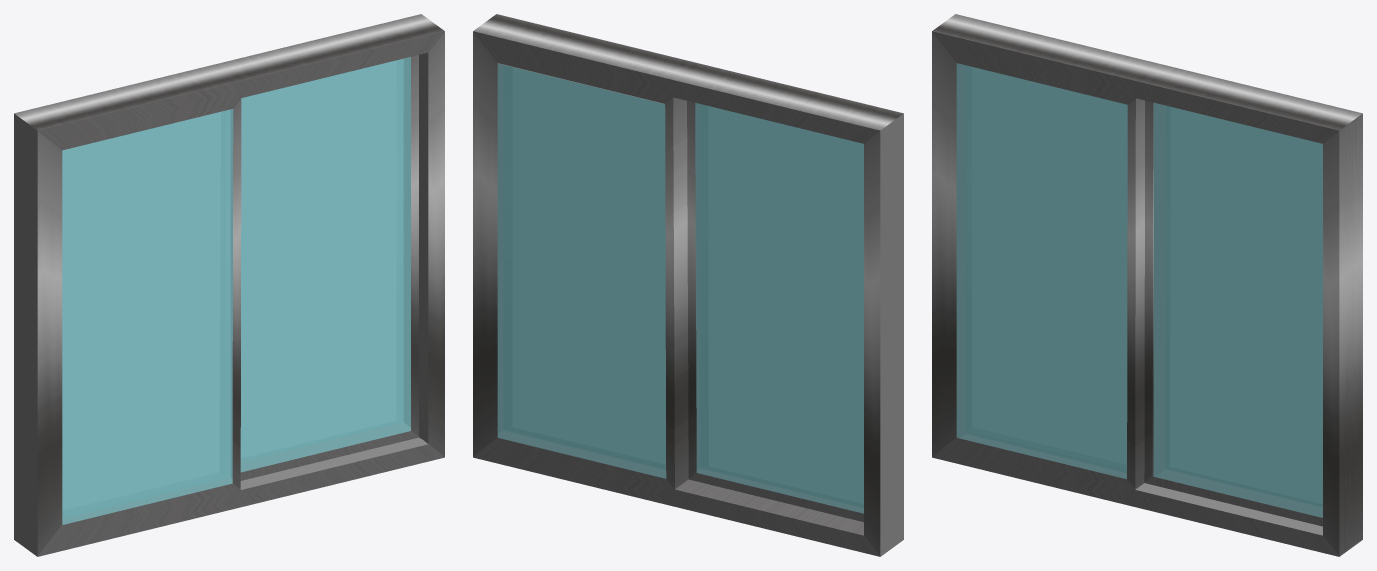
File: window.FBX
3 views of the same model, side by side, from view 1: azimuth 30°, elevation 25°; view 2: azimuth 150°, elevation 25°; view 3: azimuth 330°, elevation 25° (orthographic).
Parts seen in each view (by area): view 1: Box004; view 2: Box004; view 3: Box004.
Boxes of the visible parts, left/top/right/bottom form: Box004: left=14, top=14, right=444, bottom=556; Box004: left=473, top=14, right=903, bottom=556; Box004: left=932, top=14, right=1362, bottom=556.
Size of the model in its own units: 100 by 100 by 10.
